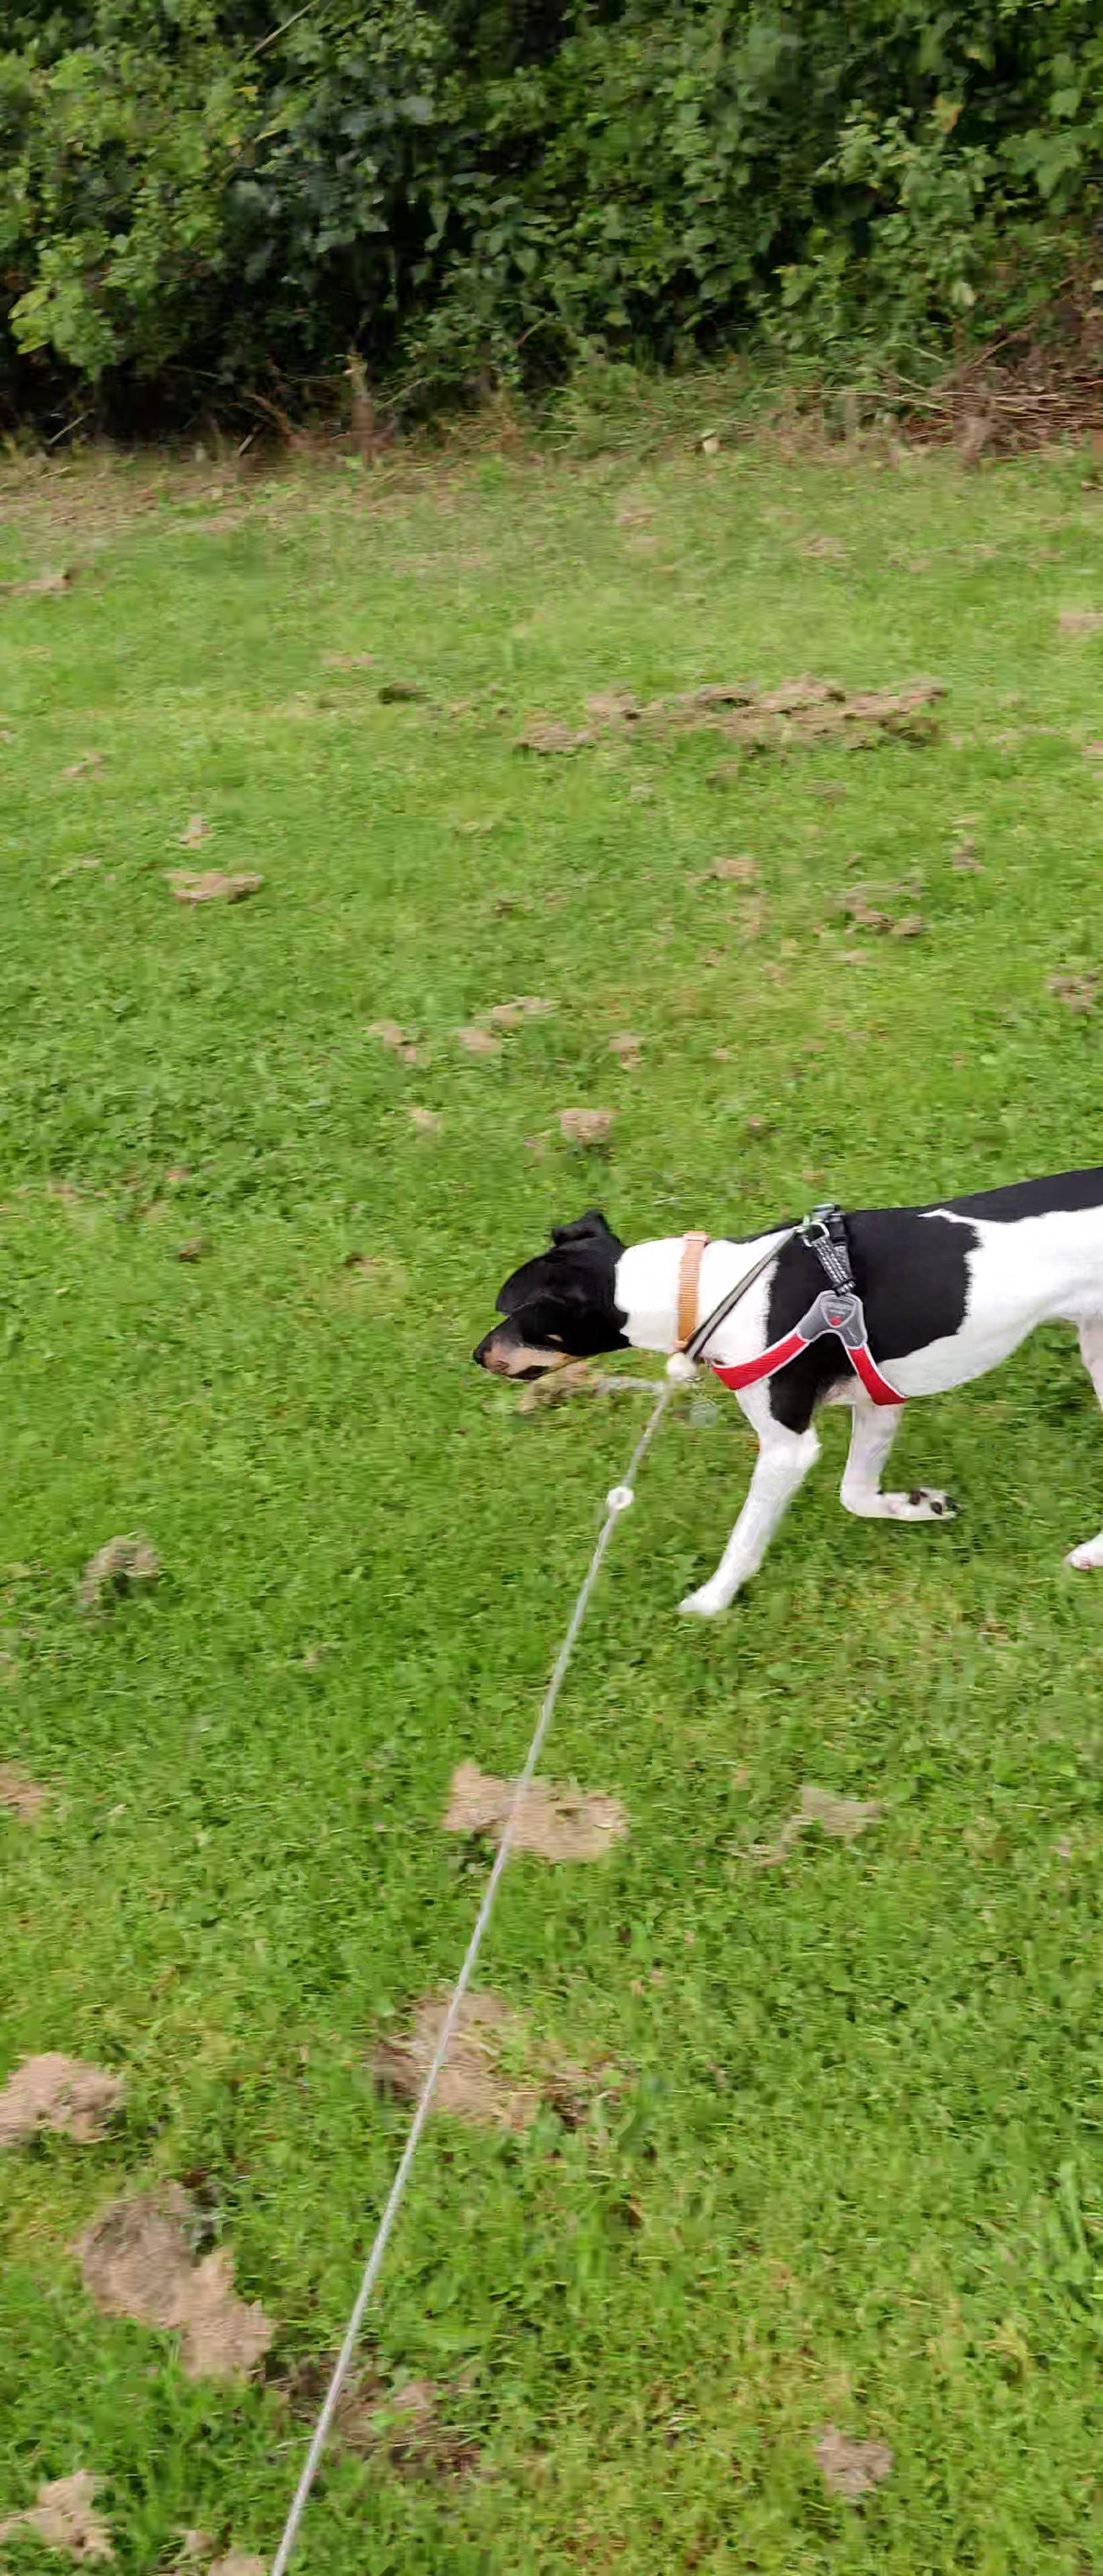Dog: (462, 1157, 1103, 1626)
